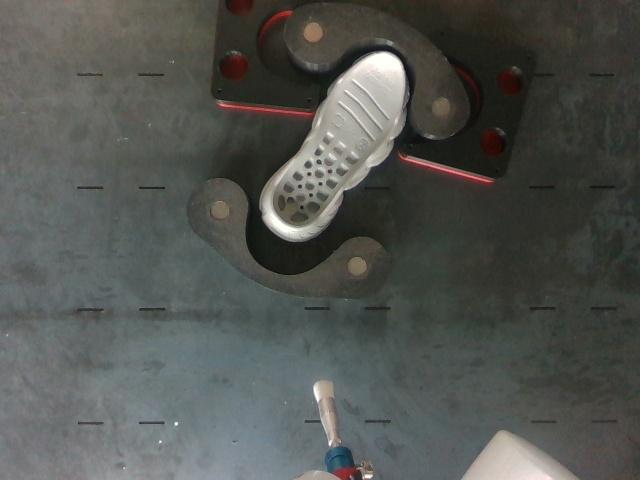shoes: (270, 52, 406, 229)
